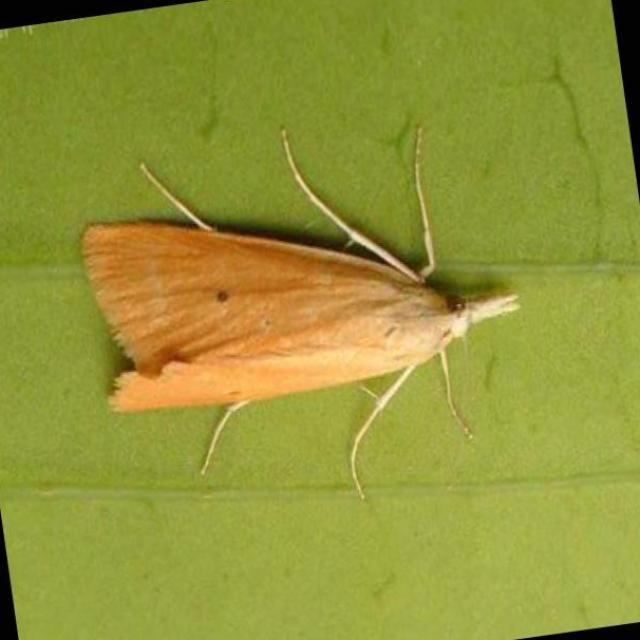stem borer: (81, 130, 517, 500)
